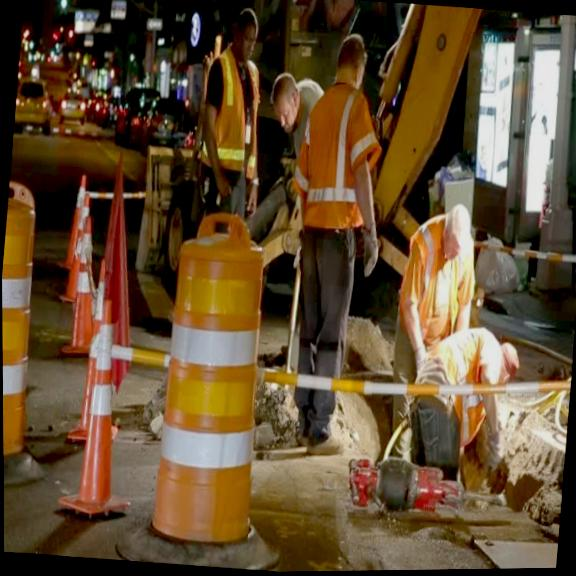safety_vest: (289, 76, 388, 245), (204, 46, 268, 179), (438, 334, 499, 450)
